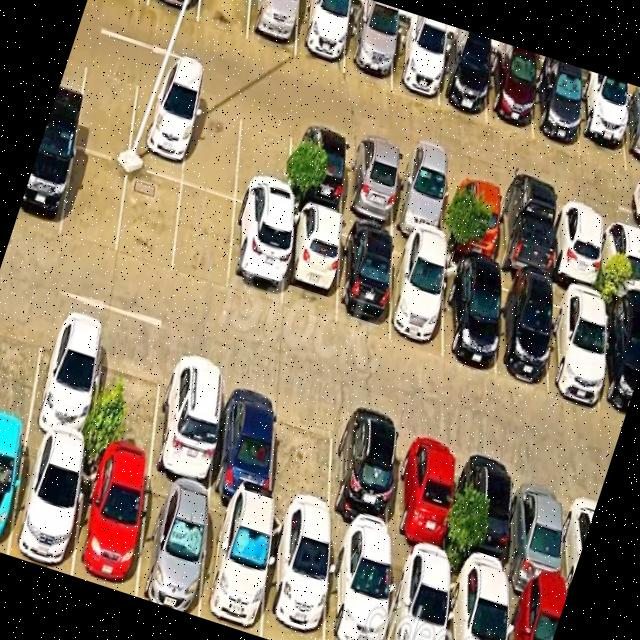empty: (89, 328, 165, 473), (270, 389, 335, 531), (60, 148, 128, 254), (74, 53, 140, 162), (117, 167, 182, 275), (172, 185, 235, 290), (182, 89, 242, 199), (235, 105, 293, 217), (0, 294, 47, 430), (198, 0, 250, 41)
occupied: (28, 308, 105, 451), (9, 434, 85, 576), (151, 349, 224, 492), (73, 455, 147, 596), (136, 475, 209, 617), (199, 496, 271, 637), (211, 368, 280, 509), (331, 406, 398, 550), (391, 424, 453, 569), (262, 515, 328, 640), (458, 444, 515, 586), (128, 70, 195, 183), (510, 461, 563, 602), (282, 206, 341, 324), (549, 285, 603, 407), (326, 536, 389, 640), (336, 222, 392, 338), (390, 239, 442, 359), (15, 133, 75, 237), (443, 258, 495, 376), (227, 204, 286, 308), (495, 273, 548, 387), (289, 122, 347, 217), (387, 552, 447, 640), (497, 185, 549, 283), (344, 137, 396, 231), (446, 169, 496, 264), (394, 152, 444, 245), (577, 81, 626, 172), (603, 301, 640, 421), (533, 64, 580, 156), (487, 50, 535, 139), (555, 201, 600, 293), (448, 570, 507, 640), (439, 39, 488, 123), (391, 23, 439, 106), (295, 0, 349, 73), (344, 9, 393, 87), (0, 426, 28, 555), (602, 215, 640, 305), (507, 587, 565, 640), (247, 0, 299, 58), (621, 94, 640, 176), (148, 0, 200, 22)
